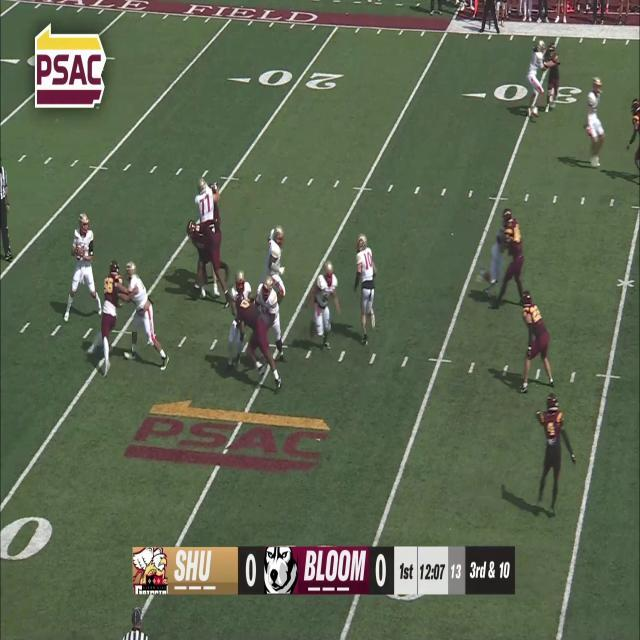football: (77, 245, 82, 260)
